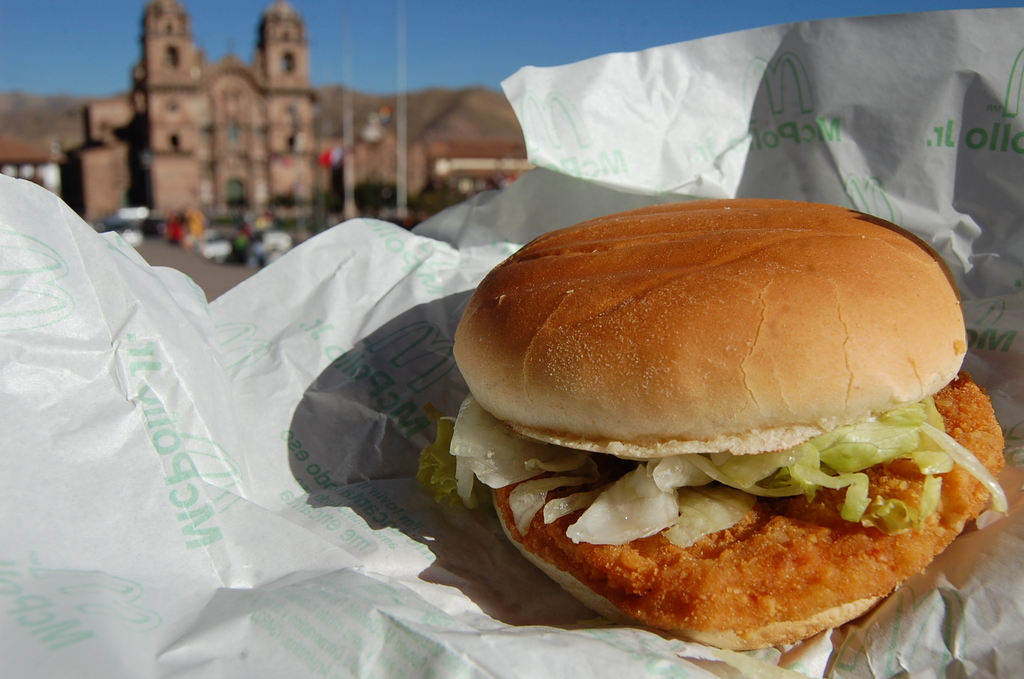Hamburger: (412, 198, 1009, 648)
